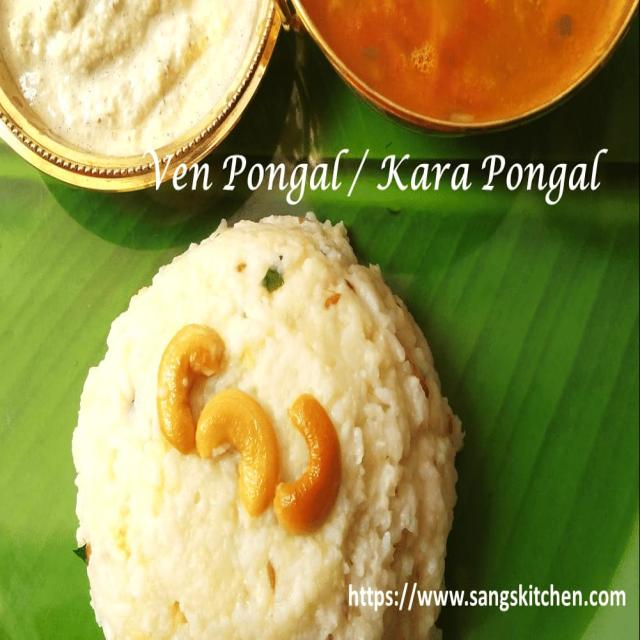khara pongal: (61, 189, 472, 640)
